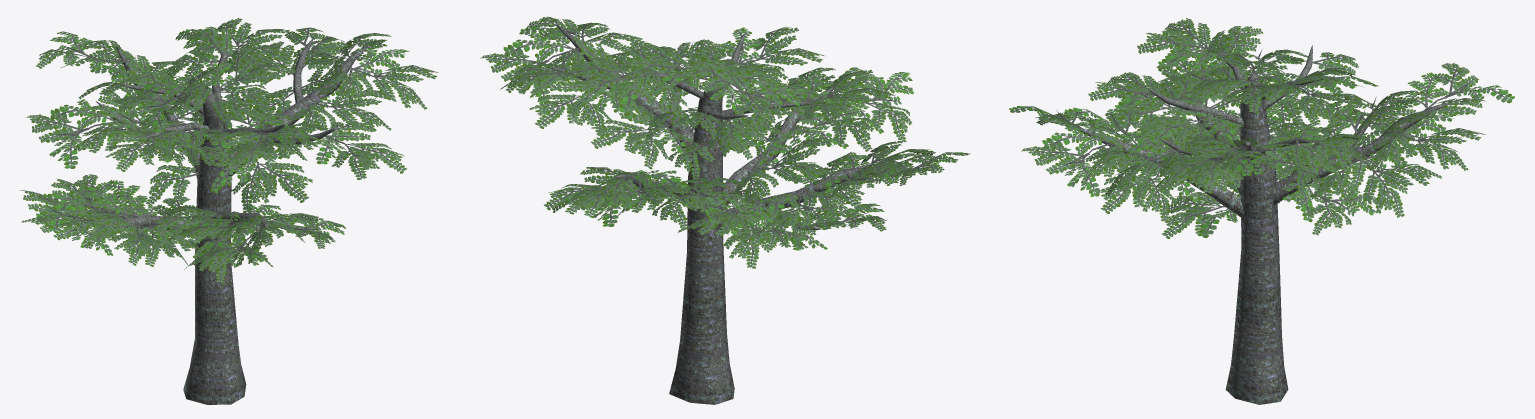
File: Tree_03_01.obj
3 renders of one model, left to right at view 1: azimuth 30°, elevation 25°; view 2: azimuth 150°, elevation 25°; view 3: azimuth 270°, elevation 25°, orthographic. The views are drawn at different scales.
Parts seen in each view (by area): view 1: polySurface1588; view 2: polySurface1588; view 3: polySurface1588.
Part boxes in pixels (<box>): polySurface1588: <box>19,18,438,404</box>; polySurface1588: <box>480,16,970,404</box>; polySurface1588: <box>1009,18,1514,404</box>.
Bounding box in the file's own units: 210 × 155 × 216.
Materials: 1 (1 with a texture image).
